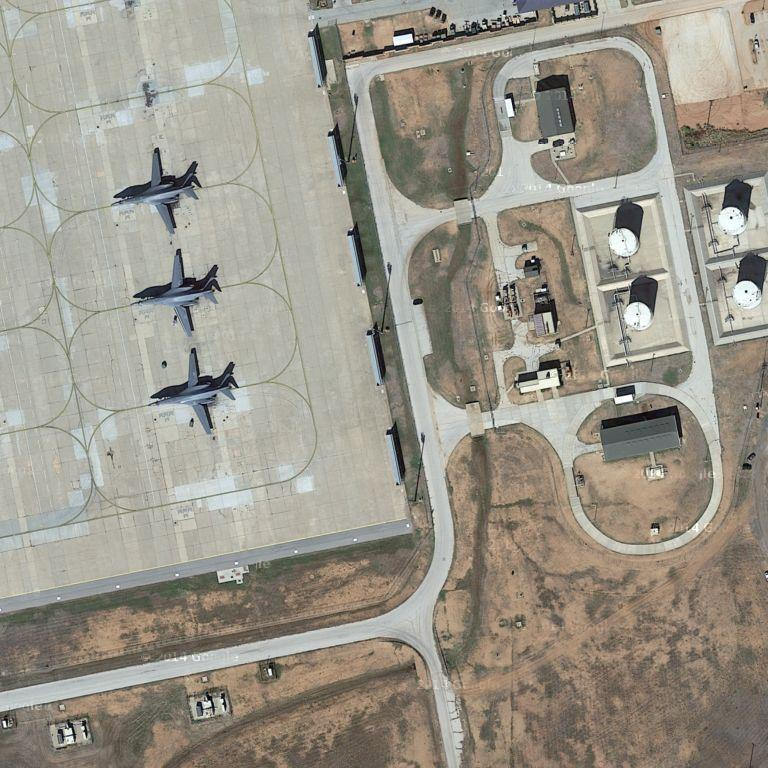B-1B: (141, 346, 241, 438), (125, 248, 223, 336), (108, 145, 201, 236)
